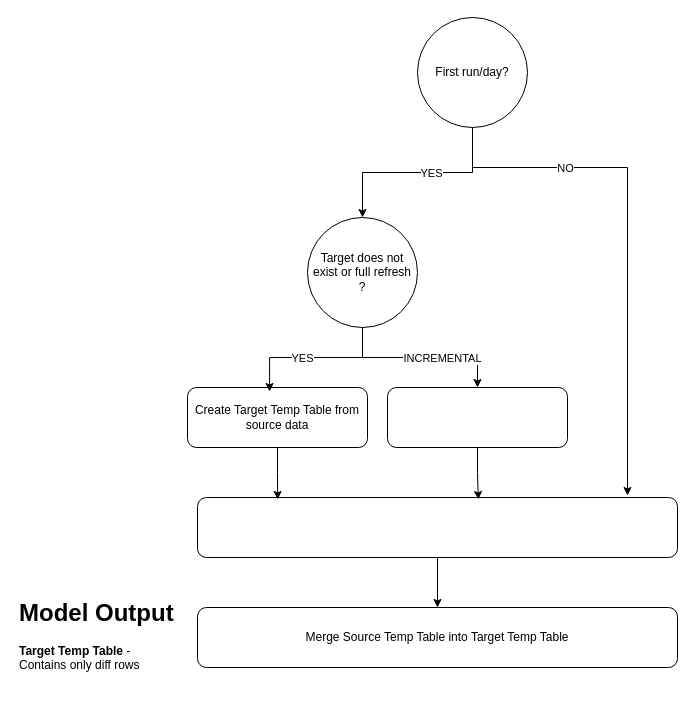
Image size: 695x703. Some labels were removed from this diagram. The shapes that lost their labels are listed below. From the top down, each one's centre as x and y in pixels, then its label:
At (x=477, y=417): "Create Target Temp Table from active target data (valid_until = null)".
At (x=437, y=527): "Source Temp Table = Filtered Source Table LEFT JOIN Target Temp Table".
